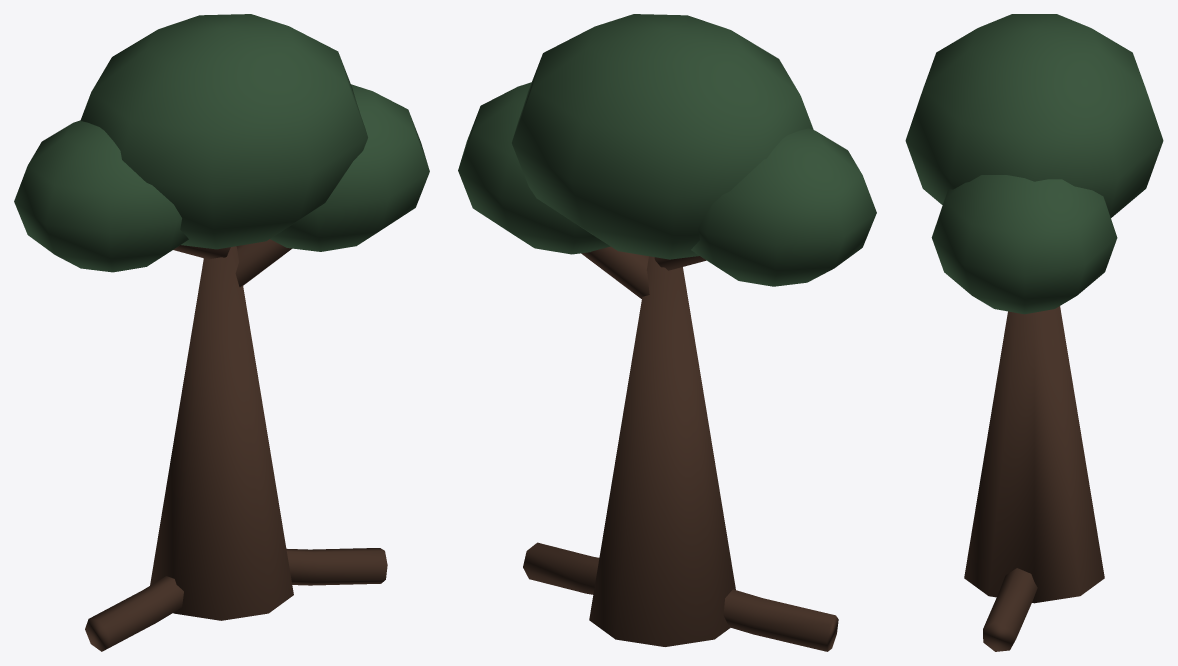
The model's file is tree.rustic.glb.
3 views of the same model, side by side, from view 1: azimuth 30°, elevation 25°; view 2: azimuth 150°, elevation 25°; view 3: azimuth 270°, elevation 25° (orthographic). The views are drawn at different scales.
Visible parts, largest first — view 1: tree.crown, trunk.main, tree.crown.west, tree.crown.east, tree.root.west, tree.root.east, tree.branch.east; view 2: tree.crown, trunk.main, tree.crown.west, tree.crown.east, tree.root.west, tree.root.east, tree.branch.east; view 3: tree.crown, trunk.main, tree.crown.east, tree.root.east.
Part boxes in pixels (x1,y1,x2,y2): tree.crown: (80,14,367,249); trunk.main: (150,246,293,620); tree.crown.west: (14,120,188,272); tree.crown.east: (270,84,429,251); tree.root.west: (85,576,183,651); tree.root.east: (286,548,387,585); tree.branch.east: (235,239,291,286); tree.crown: (512,14,813,259); trunk.main: (589,256,735,646); tree.crown.west: (691,128,876,286); tree.crown.east: (458,82,610,254); tree.root.west: (723,589,838,651); tree.root.east: (523,542,599,594); tree.branch.east: (581,246,649,298); tree.crown: (905,14,1163,217); trunk.main: (964,306,1104,603); tree.crown.east: (931,175,1117,314); tree.root.east: (983,568,1037,651).
Bounding box in the file's own units: 2.16 × 3.09 × 1.3.
